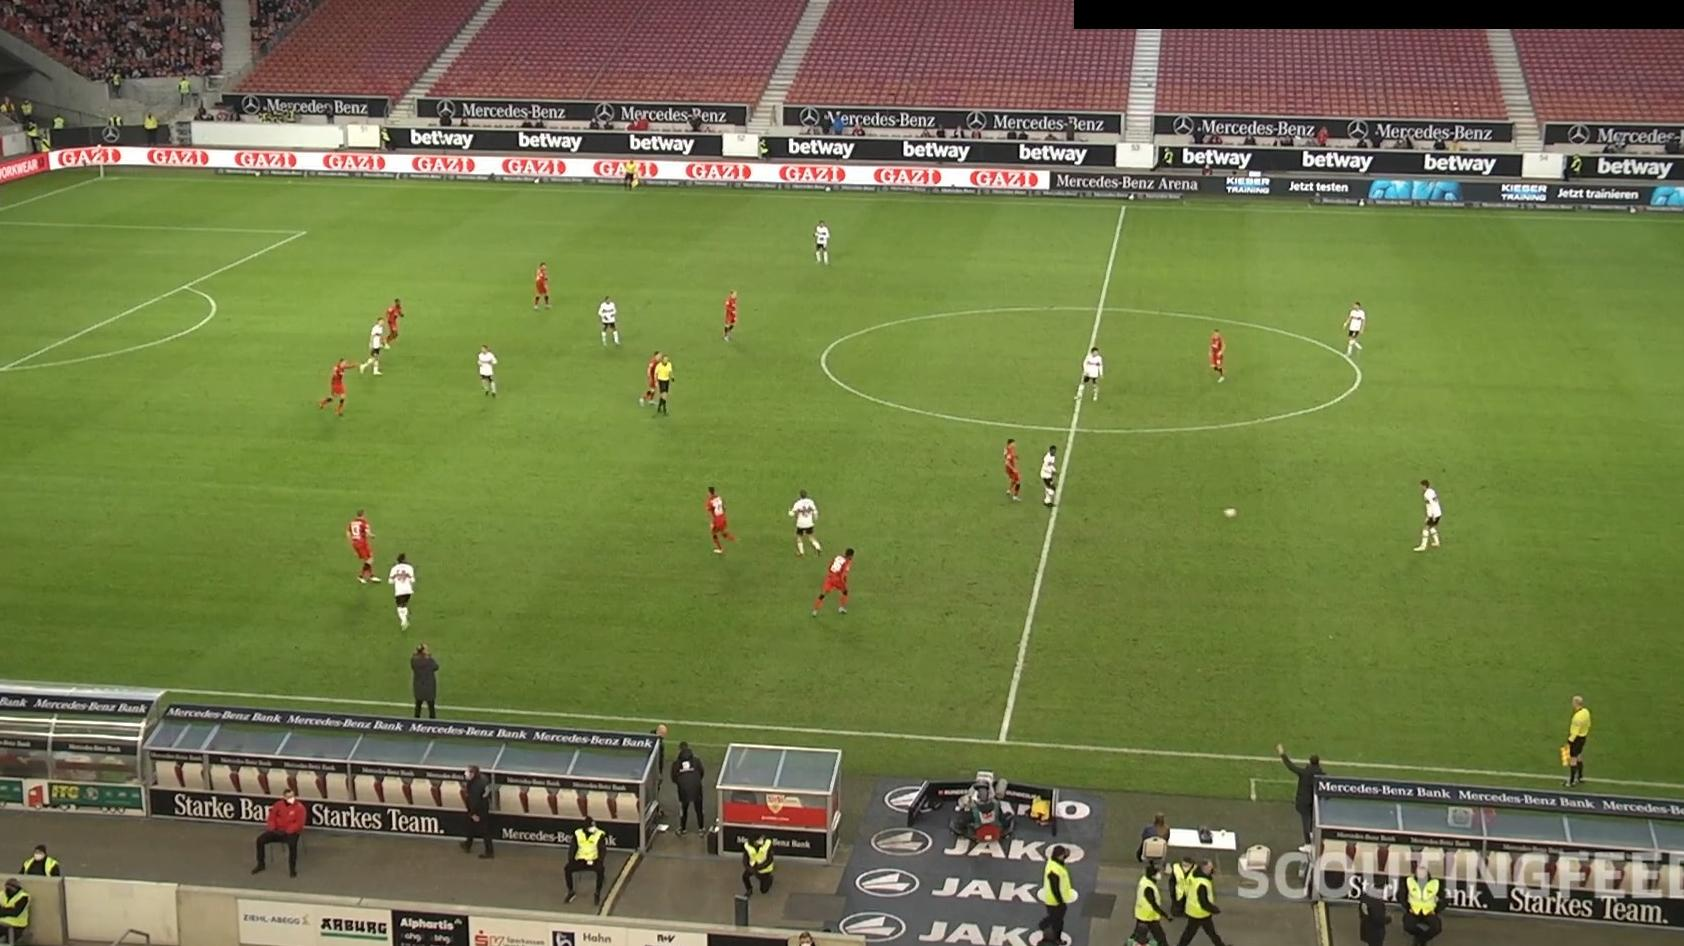ball: (1220, 505, 1240, 519)
